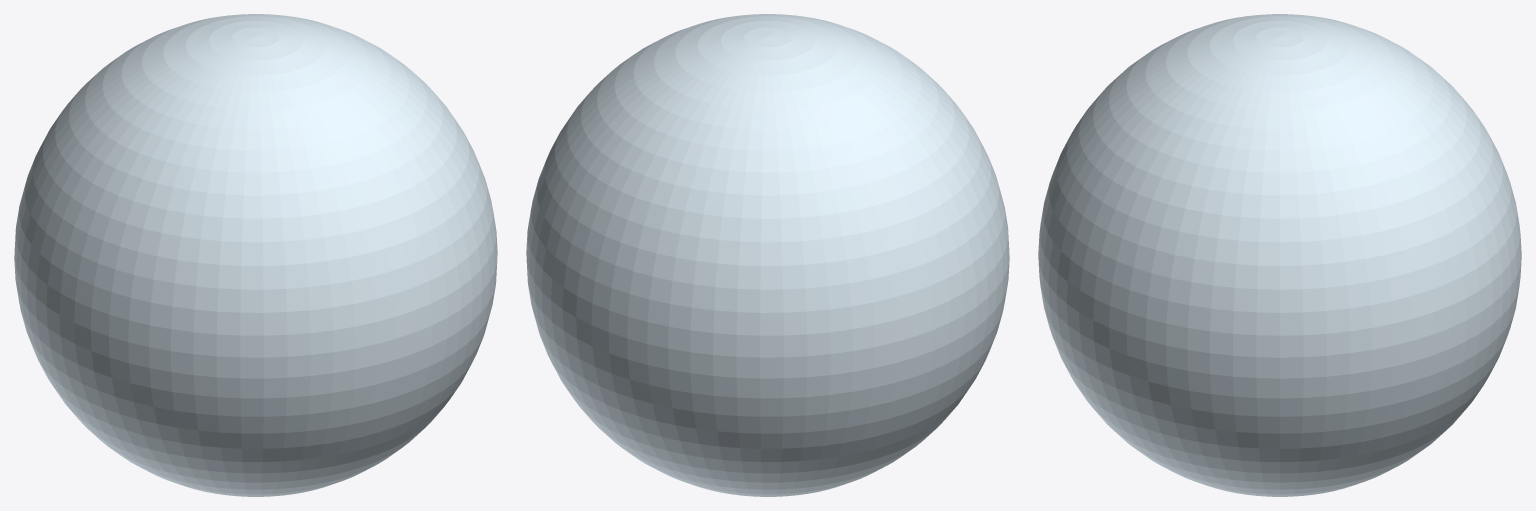
Rendered from planet.glb.
3 views of the same model, side by side, from view 1: azimuth 30°, elevation 25°; view 2: azimuth 150°, elevation 25°; view 3: azimuth 270°, elevation 25° (orthographic).
Visible parts, largest first — view 1: CloudShell; view 2: CloudShell; view 3: CloudShell.
Boxes of the visible parts, x1,y1,x2,y2 form: CloudShell: (14, 14, 497, 496); CloudShell: (526, 14, 1009, 496); CloudShell: (1038, 14, 1521, 496).
Bounding box in the file's own units: 2.03 × 2.03 × 2.03.
